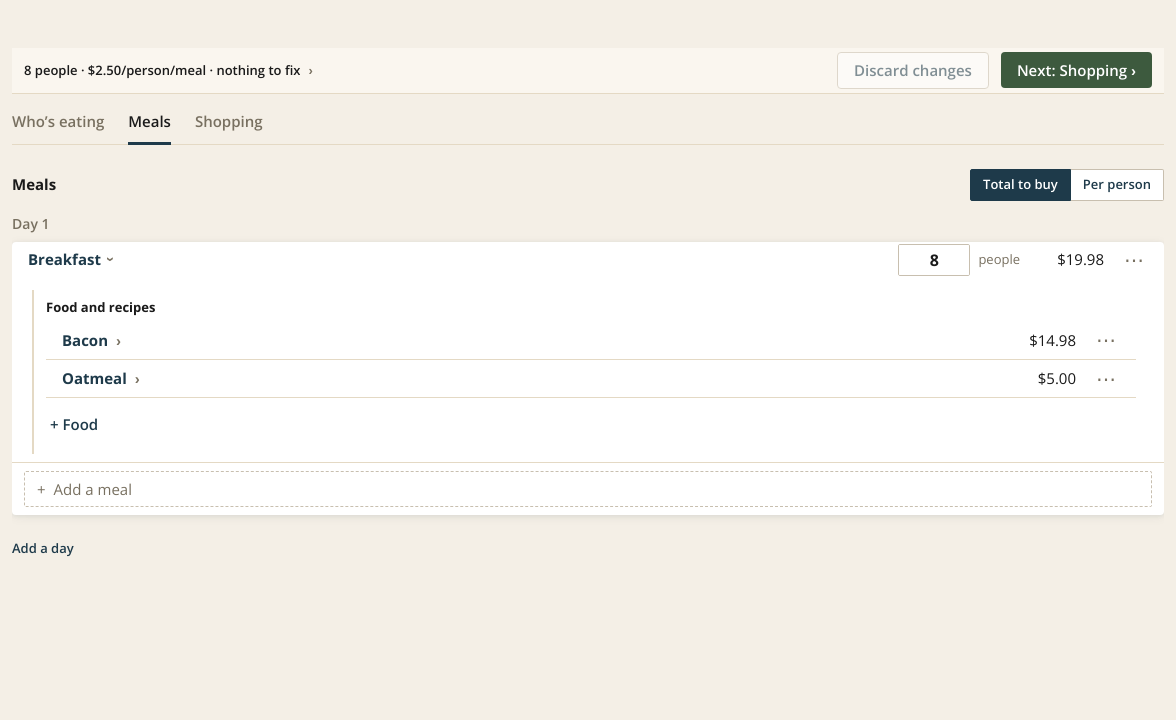
Test case: LocalPlan, the troop lists a visitor can read (2026-10-06) › Visitor_IsToldWhichDraftMatches_WithoutAnAdminLink
Click the button "+ Food" at (74, 424), box top-left (46, 402), bottom-right (102, 446)
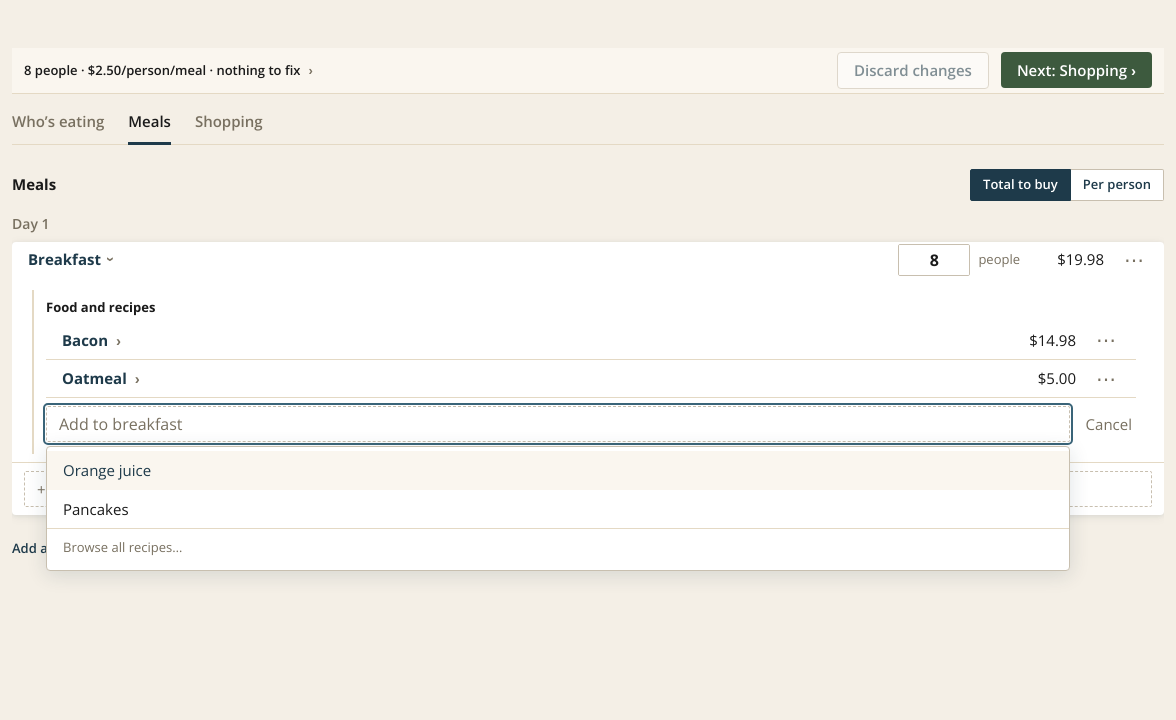
Type "cookies" into the dropdown at (558, 424), box top-left (46, 406), bottom-right (1070, 442)
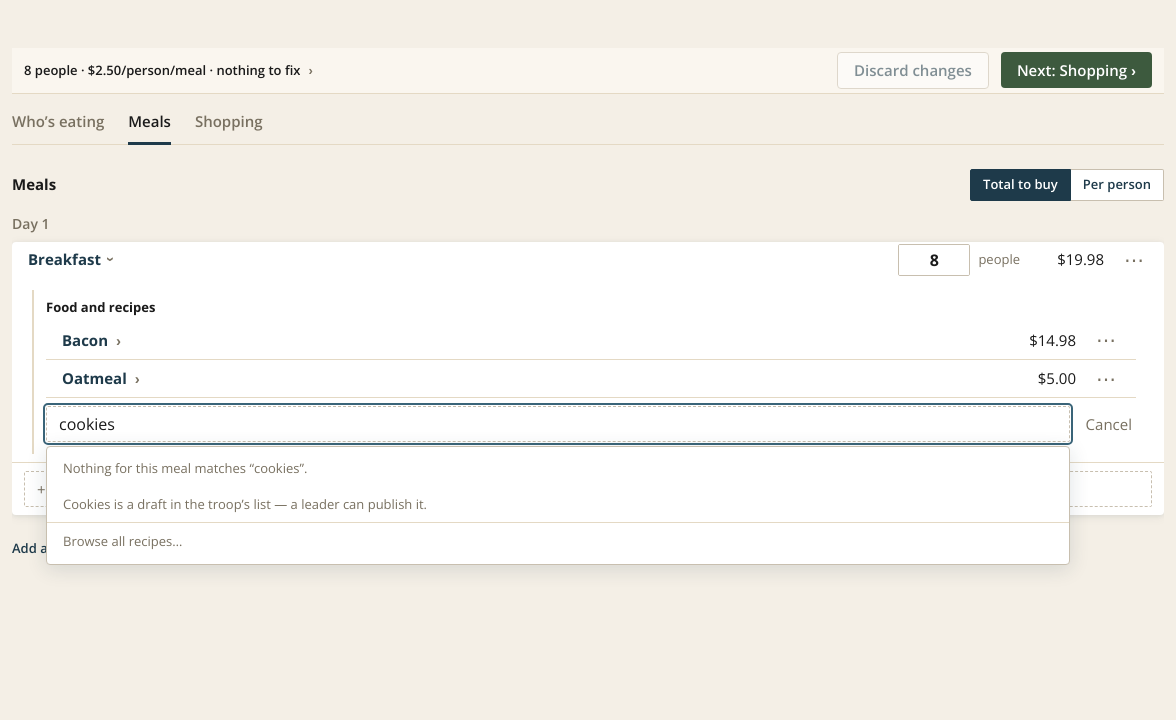
Expected: the list item "Cookies is a draft in the troop’s list — a leader can publish it." is shown, top-left (63, 495), bottom-right (427, 513)
